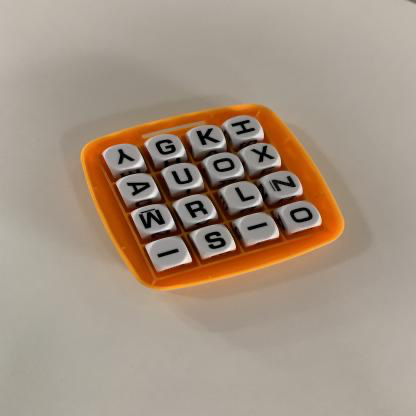a: (120, 174, 157, 201)
g: (148, 135, 184, 161)
h: (228, 117, 263, 141)
i: (150, 237, 189, 268), (239, 214, 278, 242)
k: (191, 125, 226, 151)
l: (225, 183, 263, 210)
m: (134, 205, 174, 235)
o: (284, 202, 320, 230), (208, 153, 244, 179)
r: (178, 195, 215, 223)
s: (196, 226, 235, 256)
u: (165, 163, 202, 190)
x: (245, 144, 281, 168)
y: (106, 145, 142, 171)
z: (265, 172, 302, 198)
